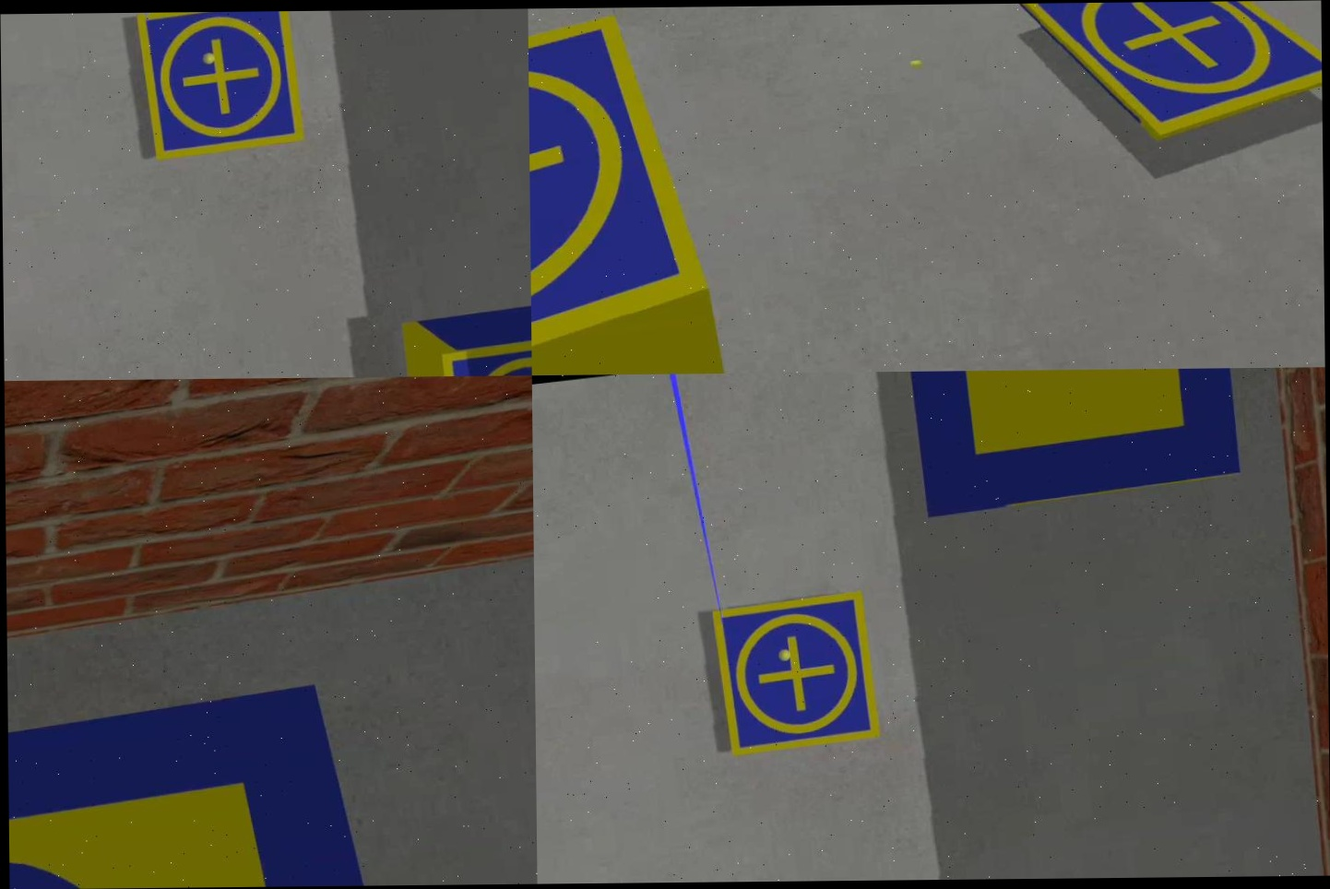large_base: (7, 677, 421, 889), (899, 368, 1243, 520)
small_base: (528, 7, 724, 375), (1020, 0, 1322, 152), (710, 590, 884, 760), (136, 11, 304, 164)
